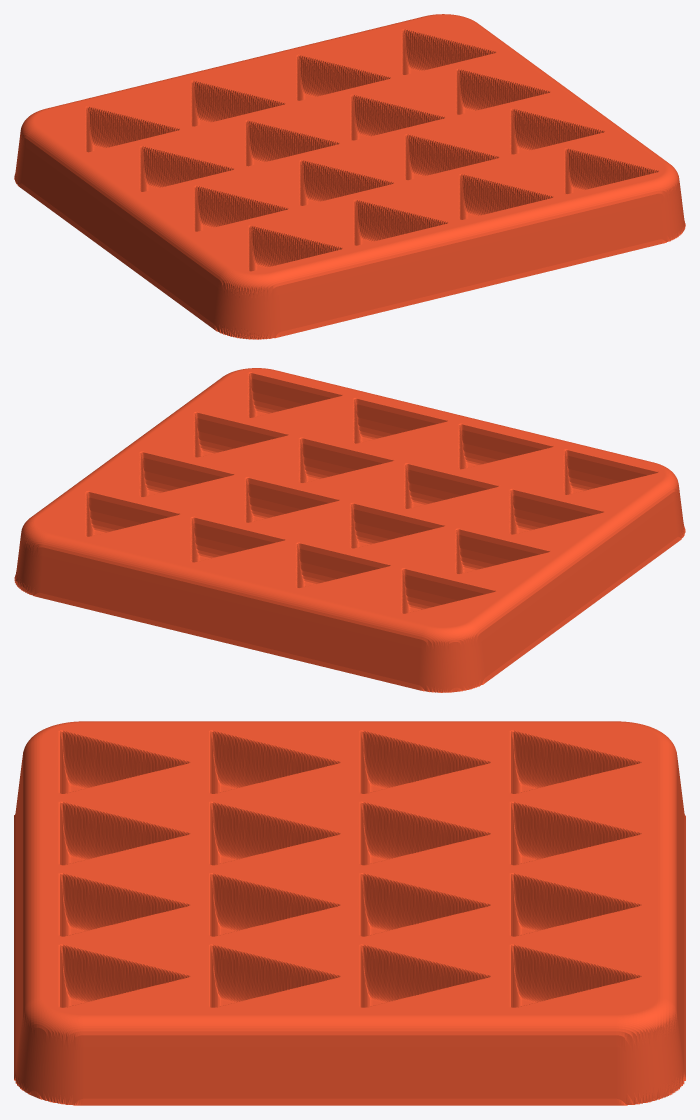
The model's file is mold.glb.
The picture shows the model from 3 angles, top to bottom: view 1: azimuth 30°, elevation 25°; view 2: azimuth 150°, elevation 25°; view 3: azimuth 270°, elevation 25°; orthographic projection. The views are drawn at different scales.
Visible parts, largest first — view 1: geometry_0; view 2: geometry_0; view 3: geometry_0.
Boxes of the visible parts, bbox=[...] form: geometry_0: bbox=[14, 14, 685, 339]; geometry_0: bbox=[14, 368, 685, 692]; geometry_0: bbox=[14, 721, 685, 1105].
Bounding box in the file's own units: 0.0972 × 0.0114 × 0.0876.
